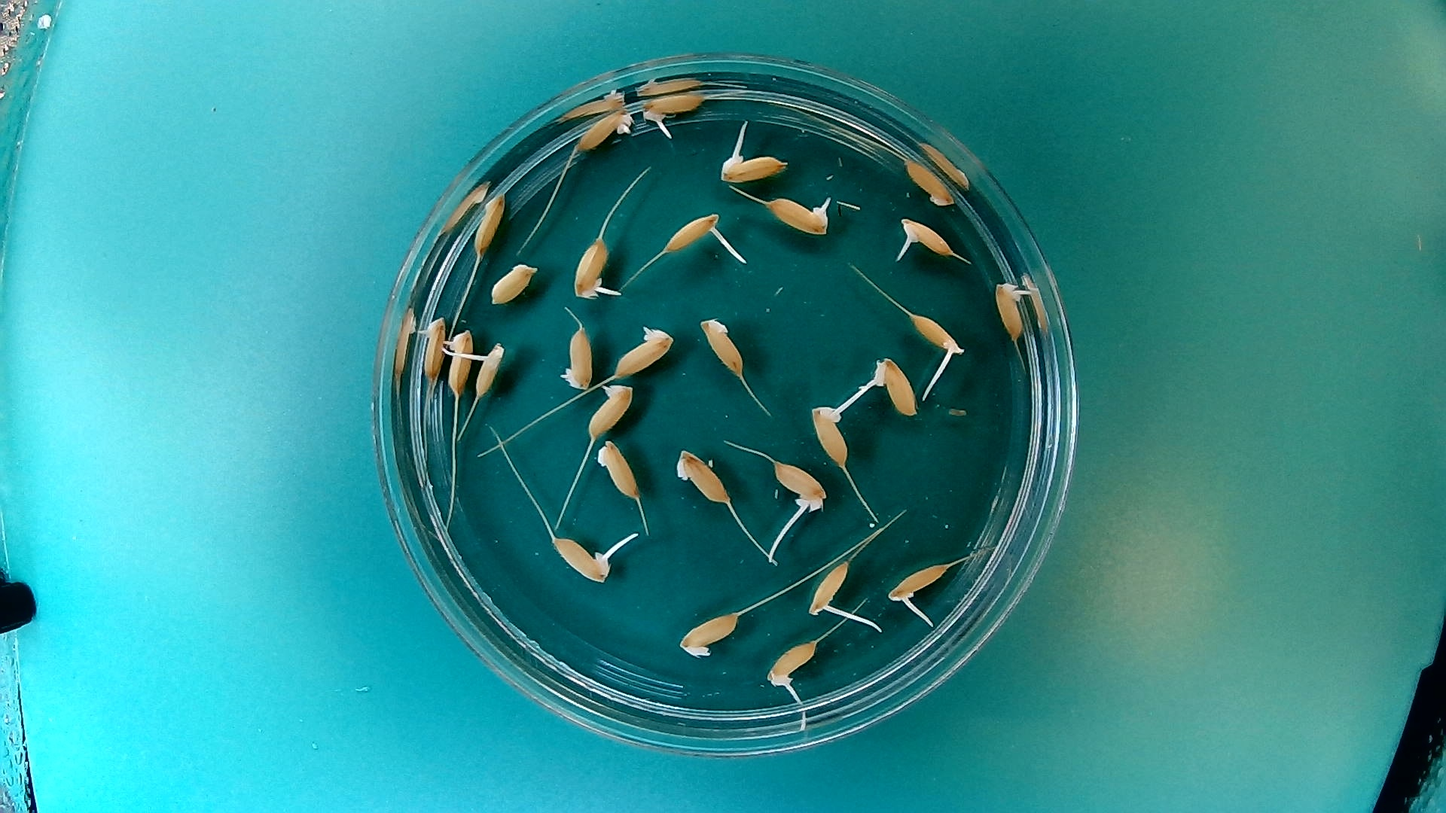no: (673, 446, 731, 504), (697, 313, 748, 377), (592, 437, 642, 502), (676, 609, 742, 656), (901, 155, 956, 208), (487, 259, 540, 306), (474, 189, 506, 266)
yes: (610, 321, 678, 378), (549, 533, 618, 586), (770, 459, 829, 517), (888, 558, 952, 609), (570, 231, 612, 303), (764, 636, 822, 687), (766, 193, 834, 236), (895, 215, 959, 260), (877, 353, 921, 418), (572, 108, 634, 154), (586, 381, 633, 439), (907, 310, 966, 356), (558, 320, 595, 393), (806, 559, 851, 617), (659, 209, 719, 252), (639, 87, 710, 123), (809, 402, 847, 469), (992, 276, 1028, 342), (444, 327, 476, 397), (472, 338, 507, 399), (418, 314, 447, 379), (716, 154, 783, 181)
